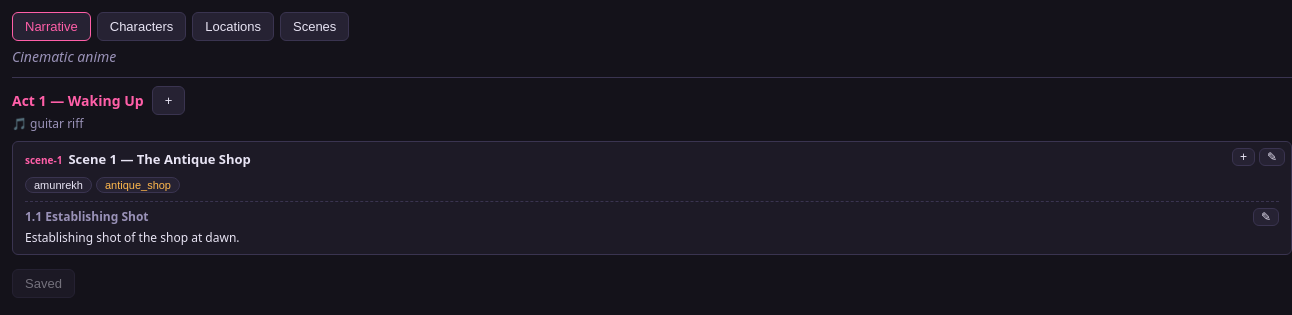
Scenario: Storyboard › the section switch shows this project's scenes
This screenshot has width=1292, height=315.
Expected: the heading "scene-1Scene 1 — The Antique Shop" is shown, [25,150,251,168]
Click the button "Scenes". click: x=315, y=26
box: [280,12,349,41]
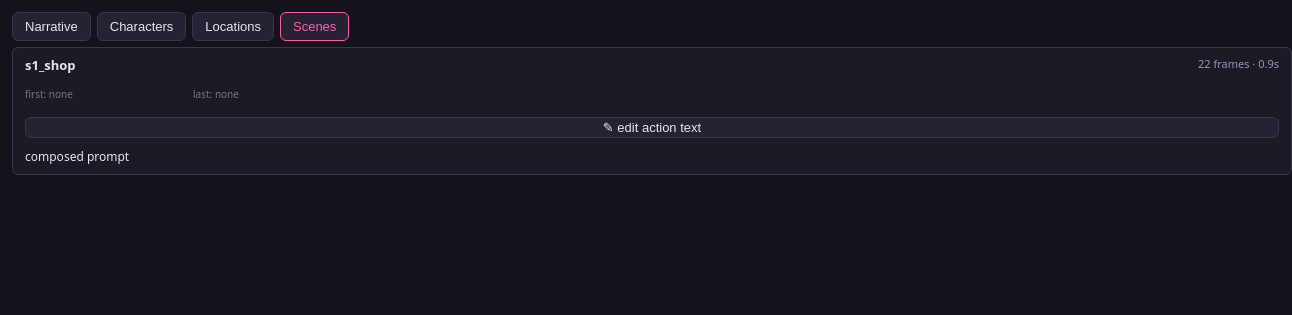
Now the text "composed prompt" is shown, box [25,148,129,165]
Now the text "first: none" is shown, box [25,87,73,101]
Now the text "last: none" is shown, box [193,87,239,101]
